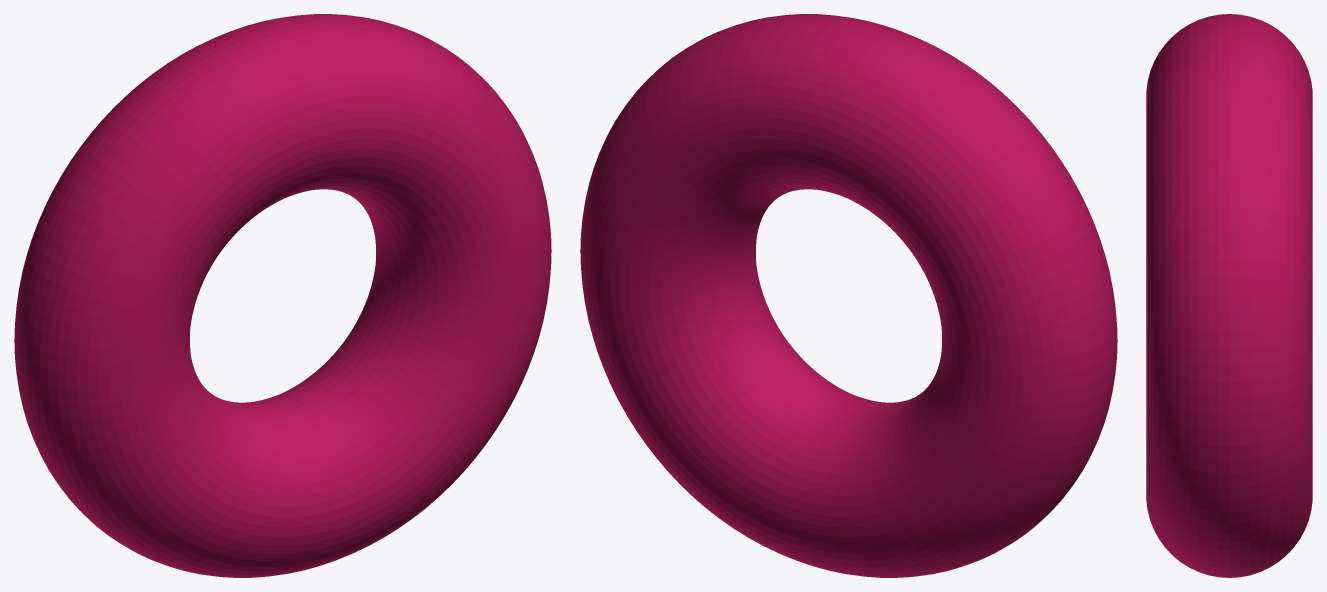
The picture shows the model from 3 angles, left to right: view 1: azimuth 30°, elevation 25°; view 2: azimuth 150°, elevation 25°; view 3: azimuth 270°, elevation 25°; orthographic projection. The views are drawn at different scales.
Visible parts, largest first — view 1: world; view 2: world; view 3: world.
Part boxes in pixels (bbox=[...]): world: bbox=[14, 14, 551, 577]; world: bbox=[580, 14, 1117, 577]; world: bbox=[1146, 14, 1312, 577].
Size of the model in its own units: 28.4 by 28.4 by 8.38.
